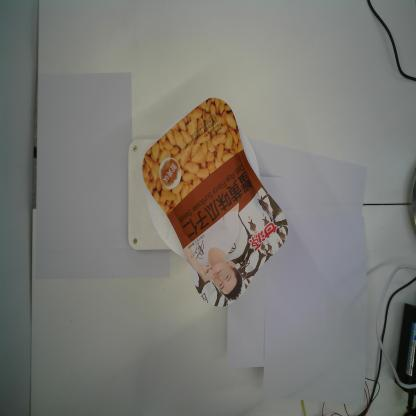Dried Fruit: (142, 97, 288, 308)
